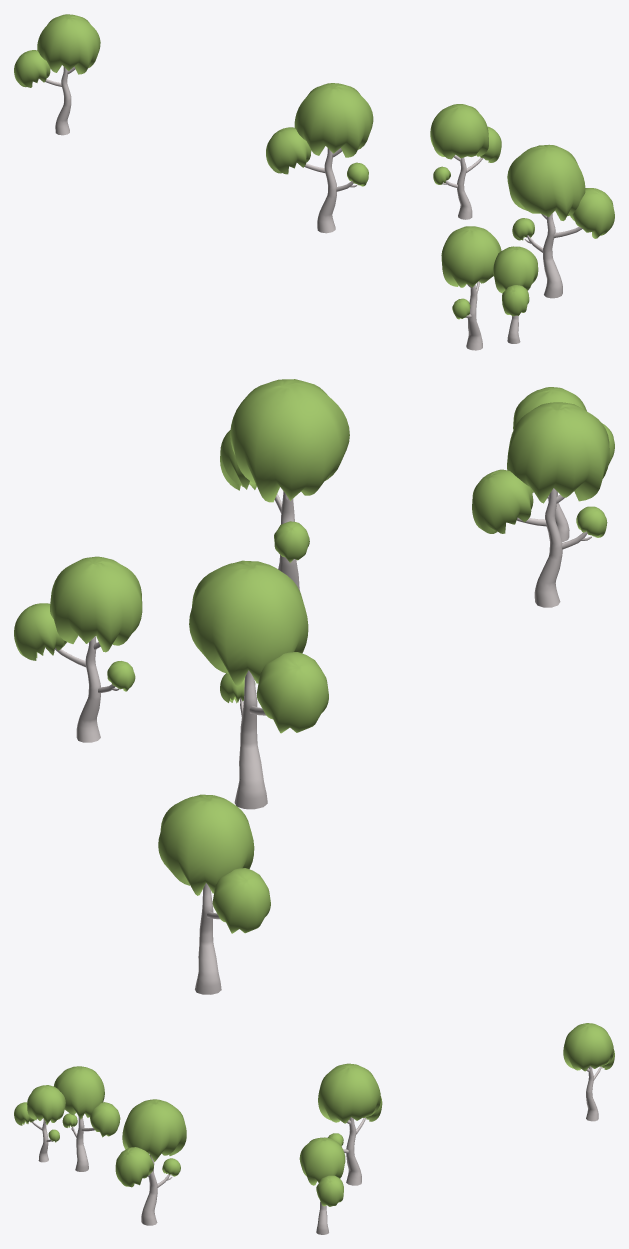
Rendered from green_tree.fbx.
3 views of the same model, one above another, from view 1: azimuth 30°, elevation 25°; view 2: azimuth 150°, elevation 25°; view 3: azimuth 270°, elevation 25° (orthographic). The views are drawn at different scales.
Visible parts, largest first — view 1: gt04_Leaves, gt02_Leaves, gt06_Leaves, gt03_Leaves, gt05_Leaves, gt01_Leaves, gt04_Branches4, gt02_Branches4, gt05_Branches4, gt06_Branches2, gt03_Branches4; view 2: gt02_Leaves, gt04_Leaves, gt05_Leaves, gt06_Leaves, gt03_Leaves, gt02_Branches4, gt05_Branches4, gt06_Branches2, gt03_Branches4, gt01_Leaves; view 3: gt04_Leaves, gt02_Leaves, gt05_Leaves, gt03_Leaves, gt06_Leaves, gt01_Leaves, gt02_Branches4, gt04_Branches4, gt05_Branches4, gt06_Branches2.
Part boxes in pixels (bbox=[...]): gt04_Leaves: bbox=[507, 144, 614, 240]; gt02_Leaves: bbox=[266, 83, 373, 186]; gt06_Leaves: bbox=[14, 14, 100, 87]; gt03_Leaves: bbox=[430, 104, 501, 184]; gt05_Leaves: bbox=[441, 226, 501, 319]; gt01_Leaves: bbox=[493, 246, 538, 316]; gt04_Branches4: bbox=[543, 213, 562, 298]; gt02_Branches4: bbox=[317, 148, 336, 233]; gt05_Branches4: bbox=[466, 284, 482, 350]; gt06_Branches2: bbox=[55, 67, 71, 135]; gt03_Branches4: bbox=[457, 157, 472, 219]; gt02_Leaves: bbox=[189, 560, 328, 733]; gt04_Leaves: bbox=[220, 379, 349, 562]; gt05_Leaves: bbox=[472, 402, 609, 537]; gt06_Leaves: bbox=[158, 794, 270, 933]; gt03_Leaves: bbox=[14, 556, 142, 691]; gt02_Branches4: bbox=[234, 670, 267, 809]; gt05_Branches4: bbox=[534, 488, 562, 607]; gt06_Branches2: bbox=[195, 883, 221, 994]; gt03_Branches4: bbox=[76, 636, 100, 742]; gt01_Leaves: bbox=[513, 387, 614, 465]; gt04_Leaves: bbox=[115, 1099, 186, 1187]; gt02_Leaves: bbox=[318, 1063, 382, 1146]; gt05_Leaves: bbox=[53, 1066, 120, 1137]; gt03_Leaves: bbox=[299, 1137, 345, 1206]; gt06_Leaves: bbox=[563, 1023, 614, 1071]; gt01_Leaves: bbox=[14, 1085, 65, 1142]; gt02_Branches4: bbox=[346, 1117, 361, 1185]; gt04_Branches4: bbox=[141, 1154, 157, 1225]; gt05_Branches4: bbox=[75, 1116, 88, 1171]; gt06_Branches2: bbox=[586, 1066, 598, 1121].
Size of the model in its own units: 72.73 by 32.35 by 145.
